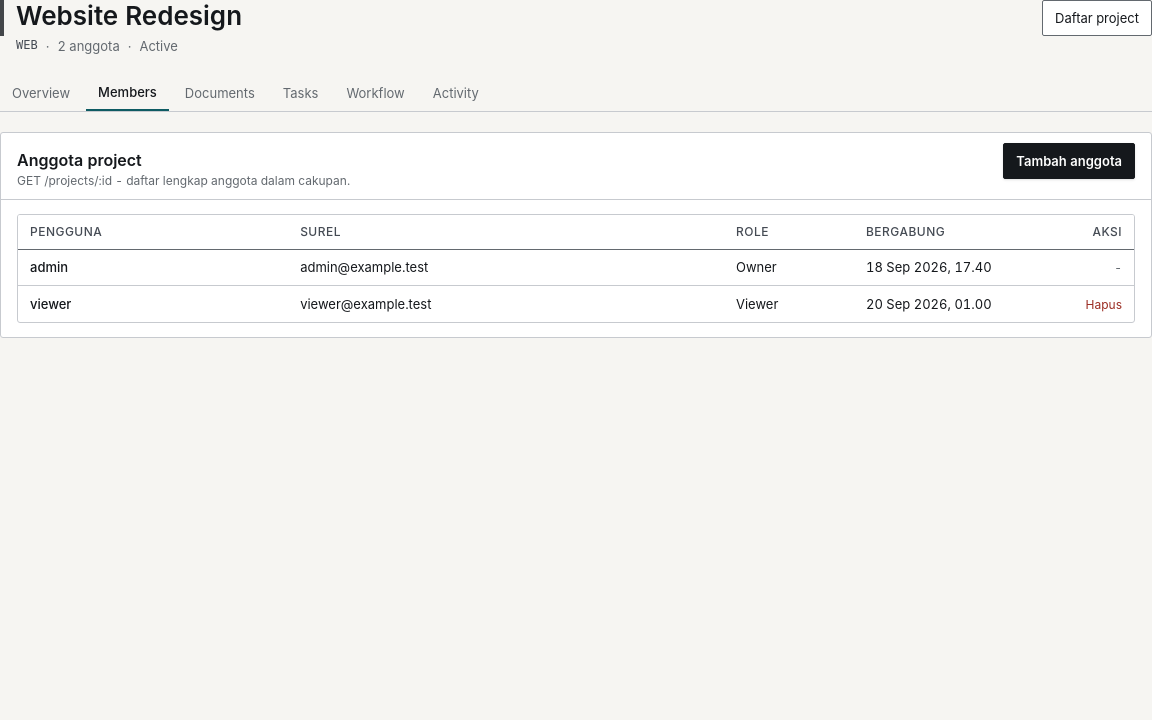
Test: halaman detail project › membuka dialog tambah anggota dan menampilkan hasil pencarian pengguna
Expected: the heading "Website Redesign" is shown, [16,0,242,32]
Click the button "Tambah anggota" at (1069, 161), box [1003,143,1135,179]
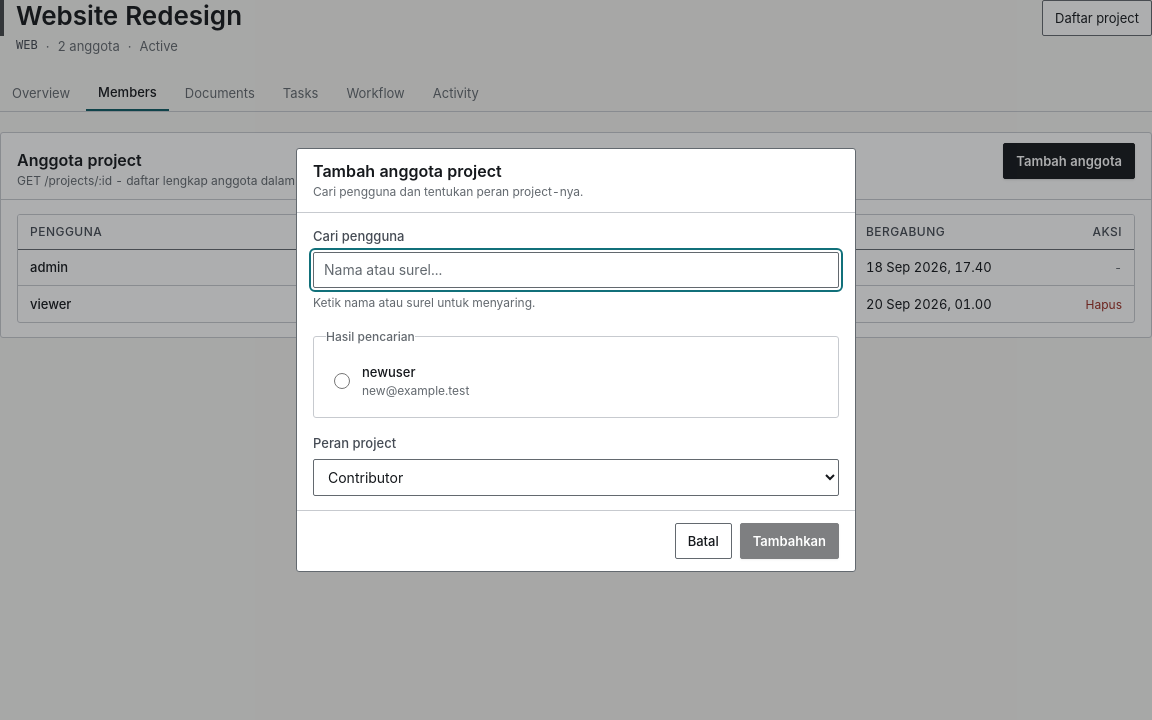
Expected: the dialog "Tambah anggota project" is shown, [296,148,856,572]
Expected: the field labelled "Cari pengguna" is shown, [313,252,839,288]
Expected: the text "newuser" is shown, [362,364,416,380]
